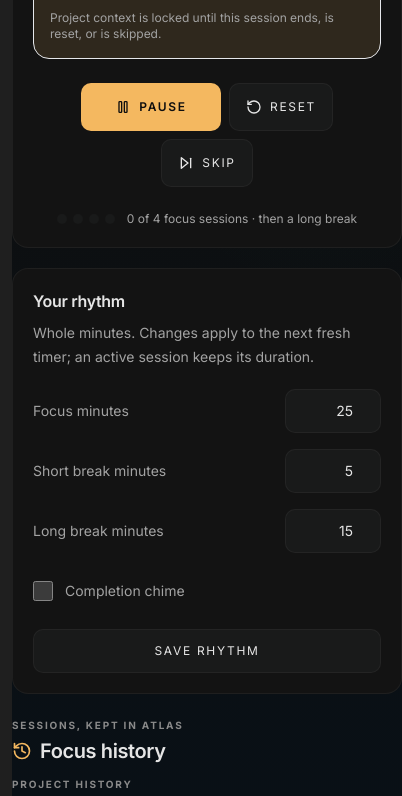
FocusPage › keeps a settings draft available when the command only settled an expired timer
(page scrolled)
Replace the text in the number field labelled "Focus minutes" with "40" at (333, 411), box x1=285 y1=389 x2=381 y2=433
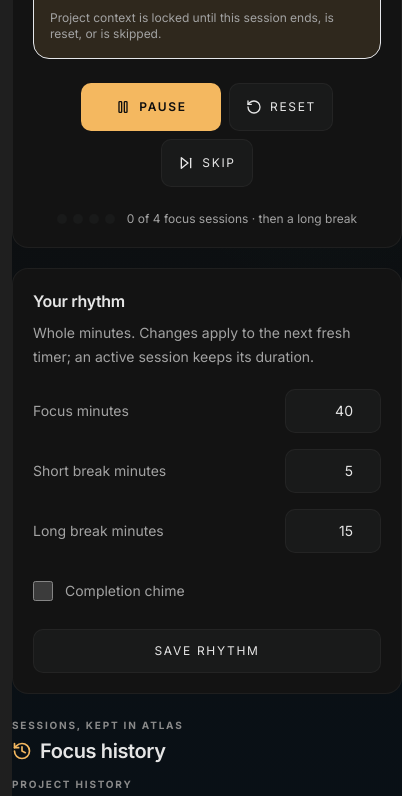
Click the button "Save rhythm" at (207, 651), box x1=33 y1=629 x2=381 y2=673
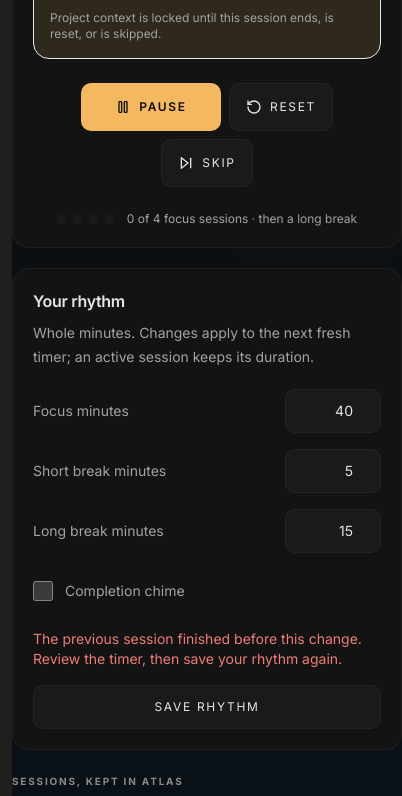
Expected: the button "Save rhythm" is enabled, x1=33 y1=685 x2=381 y2=729
Expected: the message shows "The previous session finished before this change. Review the timer, then save your rhythm again.", x1=33 y1=630 x2=362 y2=667
